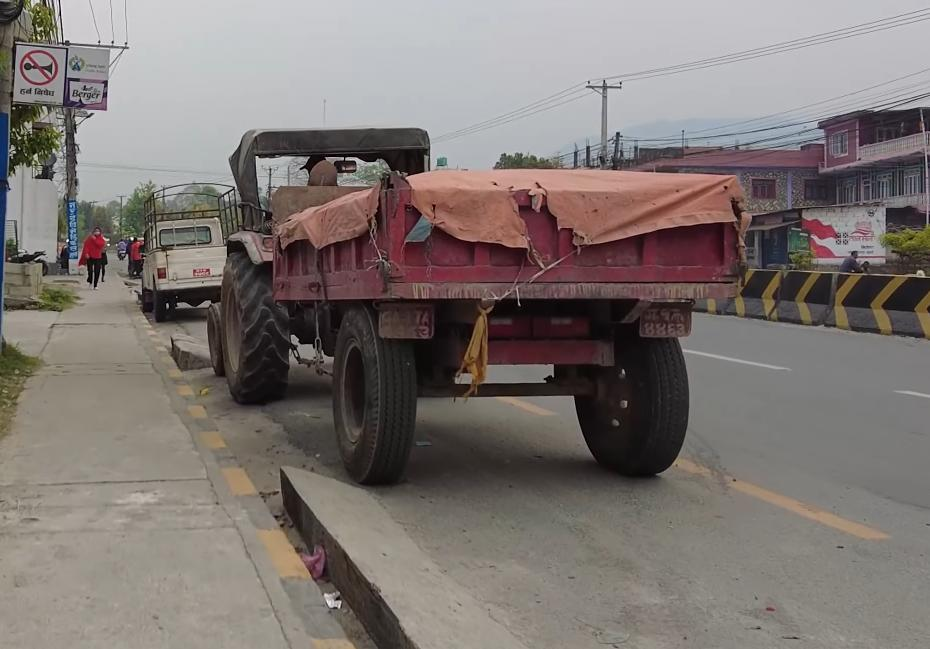tractor: (196, 116, 754, 490)
transport_vehicle: (135, 178, 242, 324)
